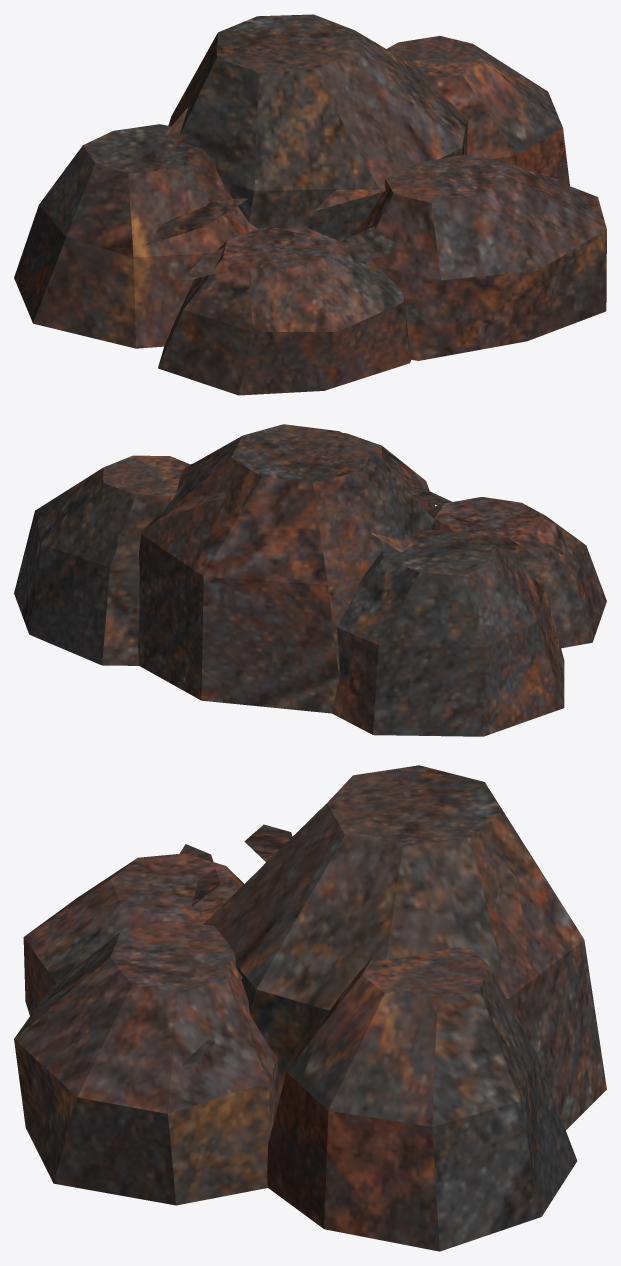
The model's file is nodo-iron-2x2-Bi6drKrh.glb.
3 views of the same model, one above another, from view 1: azimuth 30°, elevation 25°; view 2: azimuth 150°, elevation 25°; view 3: azimuth 270°, elevation 25° (orthographic). The views are drawn at different scales.
Visible parts, largest first — view 1: nodo-iron-v3-2x2; view 2: nodo-iron-v3-2x2; view 3: nodo-iron-v3-2x2.
Boxes of the visible parts, x1=… form: nodo-iron-v3-2x2: x1=14, y1=14, x2=606, y2=395; nodo-iron-v3-2x2: x1=14, y1=424, x2=606, y2=736; nodo-iron-v3-2x2: x1=14, y1=765, x2=606, y2=1251.
Size of the model in its own units: 41.58 by 15 by 30.37.
Materials: 2 (2 with a texture image).
